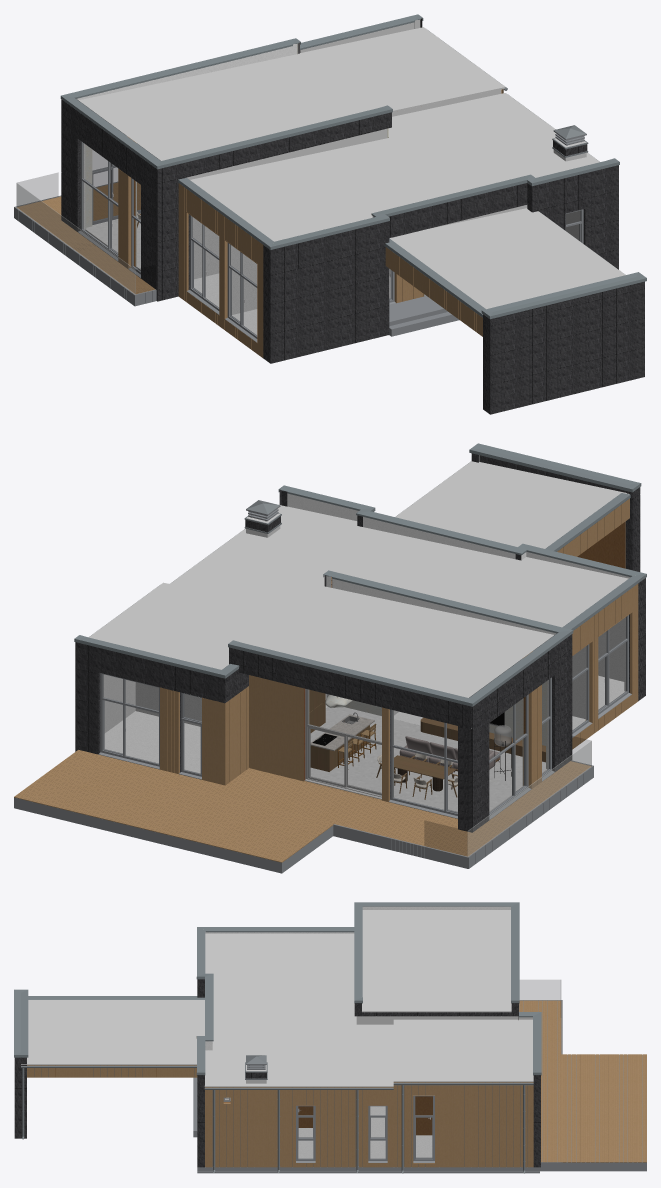
Rendered from PRO DSK AR INTERIOR-compressed (1) (1).glb.
3 renders of one model, top to bottom at view 1: azimuth 30°, elevation 25°; view 2: azimuth 150°, elevation 25°; view 3: azimuth 270°, elevation 25°, orthographic. The views are drawn at different scales.
Visible parts, largest first — view 1: New480481, _3DGeom266258405841, New57485749, New48544855, _3DGeom195741804181, _3DGeom274760226023, _3DGeom389324325, _3DGeom666977978, _3DGeom256856245625, _3DGeom301109110, _3DGeom217246854686, _3DGeom384309310 (+22 smaller); view 2: New480481, _3DGeom266258405841, _3DGeom81313391340, _3DGeom195741804181, New57485749, New48544855, _3DGeom201043084309, _3DGeom170935843585, _3DGeom200943064307, _3DGeom207044494450, _3DGeom274760226023, New55615562 (+44 smaller); view 3: New480481, _3DGeom266258405841, _3DGeom288163576358, New57485749, _3DGeom324272477248, _3DGeom81313391340, New48544855, _3DGeom195741804181, _3DGeom325572807281, _3DGeom207044494450, _3DGeom200943064307, _3DGeom288363616362 (+20 smaller).
Boxes of the visible parts, left/top/right/bottom form: New480481: left=190, top=93, right=599, bottom=241; _3DGeom266258405841: left=79, top=53, right=376, bottom=160; New57485749: left=389, top=208, right=625, bottom=309; New48544855: left=300, top=27, right=505, bottom=111; _3DGeom195741804181: left=17, top=182, right=155, bottom=294; _3DGeom274760226023: left=16, top=183, right=135, bottom=293; _3DGeom389324325: left=178, top=183, right=219, bottom=325; _3DGeom666977978: left=224, top=217, right=263, bottom=357; _3DGeom256856245625: left=385, top=247, right=482, bottom=336; _3DGeom301109110: left=158, top=108, right=392, bottom=169; _3DGeom217246854686: left=60, top=38, right=295, bottom=98; _3DGeom384309310: left=186, top=128, right=387, bottom=179; New480481: left=170, top=504, right=628, bottom=627; _3DGeom266258405841: left=245, top=586, right=553, bottom=697; _3DGeom81313391340: left=14, top=759, right=333, bottom=862; _3DGeom195741804181: left=66, top=750, right=591, bottom=856; New57485749: left=395, top=461, right=626, bottom=548; New48544855: left=89, top=582, right=289, bottom=669; _3DGeom201043084309: left=310, top=707, right=546, bottom=811; _3DGeom170935843585: left=249, top=675, right=304, bottom=781; _3DGeom200943064307: left=104, top=675, right=625, bottom=812; _3DGeom207044494450: left=14, top=797, right=333, bottom=873; _3DGeom274760226023: left=467, top=741, right=591, bottom=855; New55615562: left=308, top=690, right=381, bottom=742; New480481: left=204, top=933, right=393, bottom=1086; _3DGeom266258405841: left=362, top=910, right=511, bottom=1011; _3DGeom288163576358: left=205, top=1087, right=393, bottom=1167; New57485749: left=21, top=1000, right=204, bottom=1064; _3DGeom324272477248: left=393, top=1082, right=533, bottom=1167; _3DGeom81313391340: left=561, top=1054, right=646, bottom=1162; New48544855: left=393, top=1019, right=533, bottom=1081; _3DGeom195741804181: left=519, top=1000, right=561, bottom=1162; _3DGeom325572807281: left=27, top=1065, right=197, bottom=1077; _3DGeom207044494450: left=561, top=1055, right=646, bottom=1171; _3DGeom200943064307: left=298, top=1106, right=432, bottom=1158; _3DGeom288363616362: left=212, top=1087, right=362, bottom=1166.
Size of what is drawn, in the model's own units: 16.9 by 5.57 by 27.35.
Materials: 55 (32 with a texture image).
